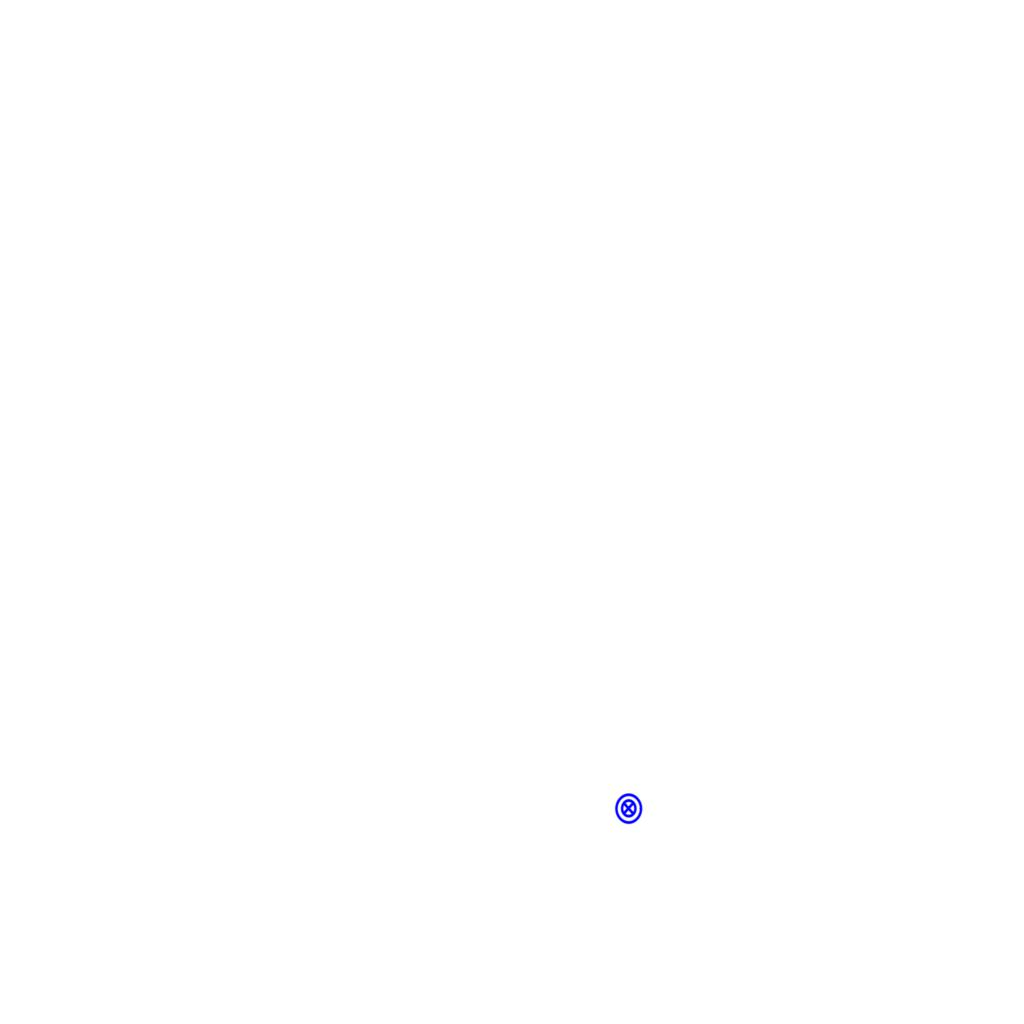Taster_beleuchtet: (612, 792, 645, 825)
